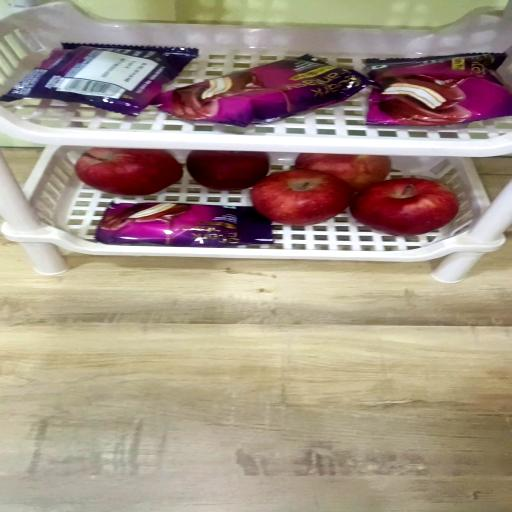Apple: (350, 180, 458, 239), (252, 171, 354, 229), (74, 150, 182, 198), (295, 156, 391, 194), (188, 153, 272, 193)
Choco Pie: (159, 54, 372, 126), (0, 43, 194, 116), (364, 52, 512, 127), (97, 204, 276, 250)
